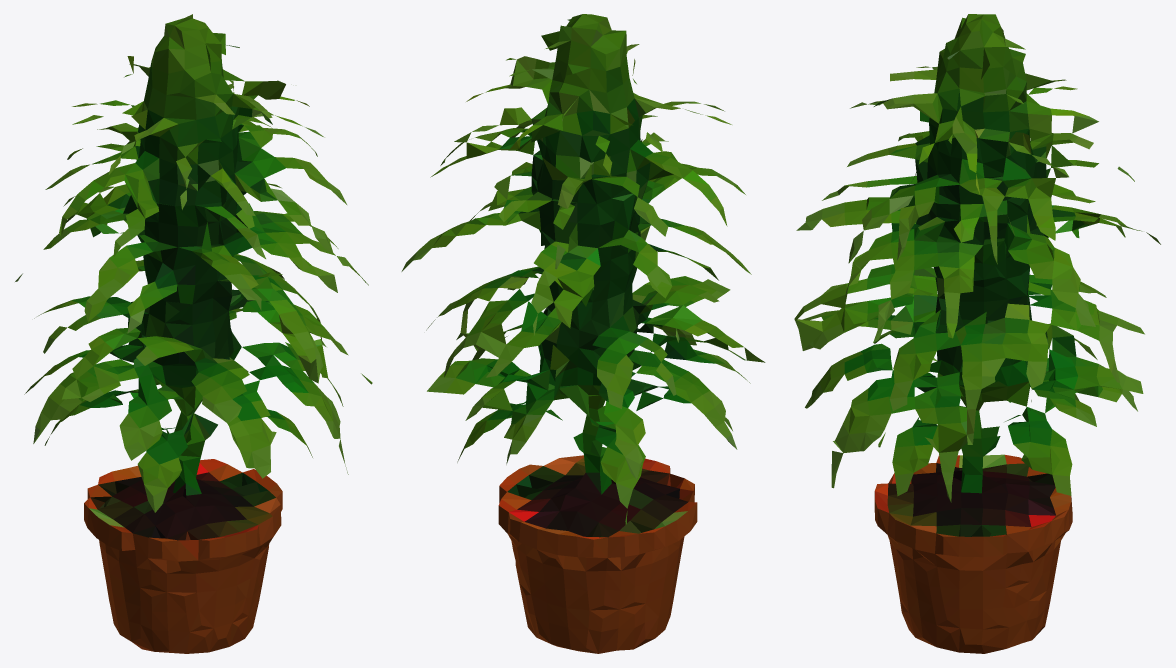
Rendered from cannabis_plant.glb.
The picture shows the model from 3 angles, left to right: view 1: azimuth 30°, elevation 25°; view 2: azimuth 150°, elevation 25°; view 3: azimuth 270°, elevation 25°; orthographic projection.
Parts seen in each view (by area): view 1: plant_30; view 2: plant_30; view 3: plant_30.
Boxes of the visible parts, x1,y1,x2,y2 form: plant_30: [15, 14, 372, 653]; plant_30: [401, 14, 765, 653]; plant_30: [794, 14, 1160, 653].
Bounding box in the file's own units: 0.5421 × 1.08 × 0.5827.
